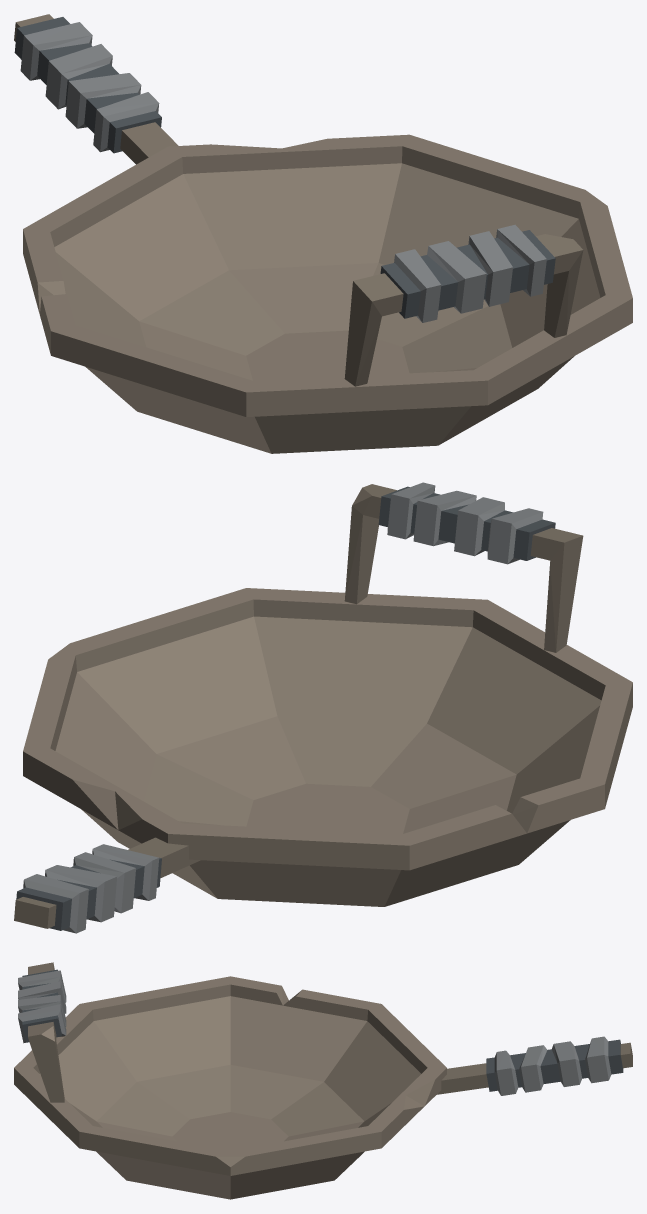
Rendered from SM_Prop_Pot_03.fbx.
3 views of the same model, one above another, from view 1: azimuth 30°, elevation 25°; view 2: azimuth 150°, elevation 25°; view 3: azimuth 270°, elevation 25° (orthographic). The views are drawn at different scales.
Parts seen in each view (by area): view 1: SM_Prop_Pot_03; view 2: SM_Prop_Pot_03; view 3: SM_Prop_Pot_03.
Part boxes in pixels (left/top/right/bottom): SM_Prop_Pot_03: left=14, top=14, right=632, bottom=453; SM_Prop_Pot_03: left=14, top=482, right=632, bottom=933; SM_Prop_Pot_03: left=14, top=962, right=632, bottom=1199.
Bounding box in the file's own units: 0.00603 × 0.00251 × 0.00862.
1 material, 1 textured.
